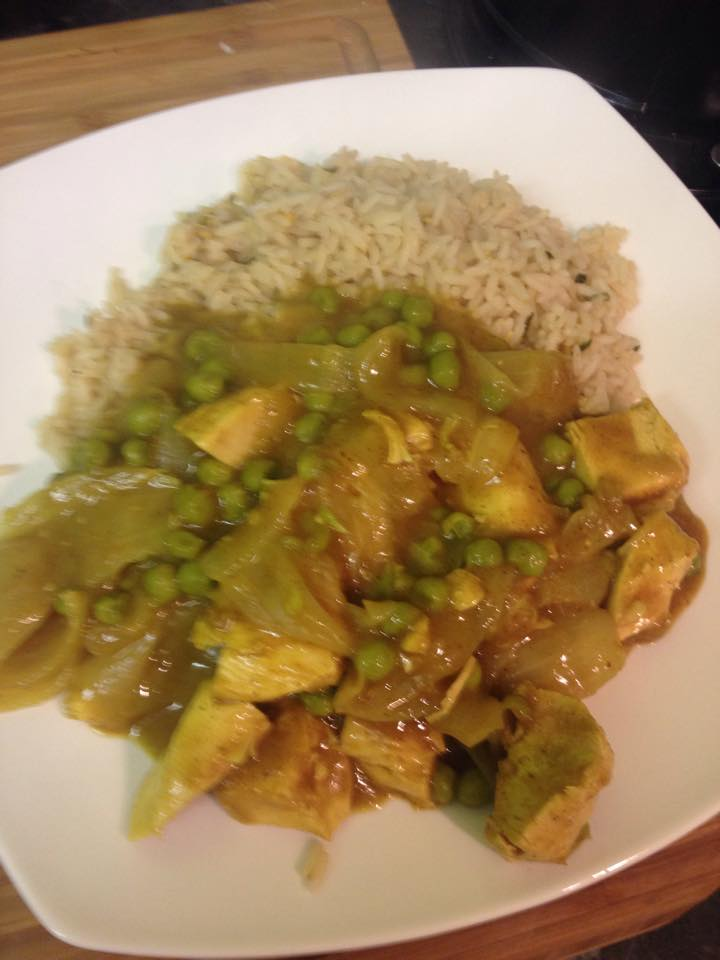curry: (118, 325, 642, 814), (245, 540, 597, 803), (104, 389, 367, 709), (306, 316, 564, 551), (443, 434, 672, 660)
